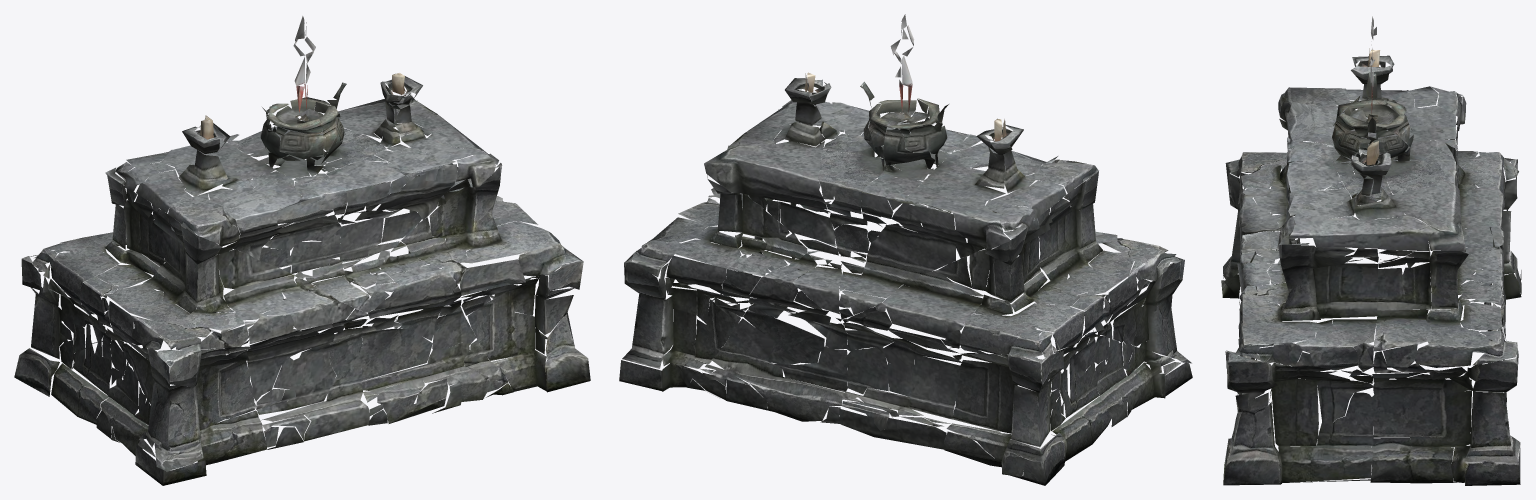
Rendered from altar.glb.
The picture shows the model from 3 angles, left to right: view 1: azimuth 30°, elevation 25°; view 2: azimuth 150°, elevation 25°; view 3: azimuth 270°, elevation 25°; orthographic projection.
Parts seen in each view (by area): view 1: tripo_node_da072daf-f855-42af-8e5e-da963cababda; view 2: tripo_node_da072daf-f855-42af-8e5e-da963cababda; view 3: tripo_node_da072daf-f855-42af-8e5e-da963cababda.
Part boxes in pixels (x1,y1,x2,y2): tripo_node_da072daf-f855-42af-8e5e-da963cababda: [14, 16, 590, 485]; tripo_node_da072daf-f855-42af-8e5e-da963cababda: [619, 14, 1192, 485]; tripo_node_da072daf-f855-42af-8e5e-da963cababda: [1221, 16, 1521, 485].
Bounding box in the file's own units: 0.9815 × 0.8056 × 0.5903.
1 material, 1 textured.
